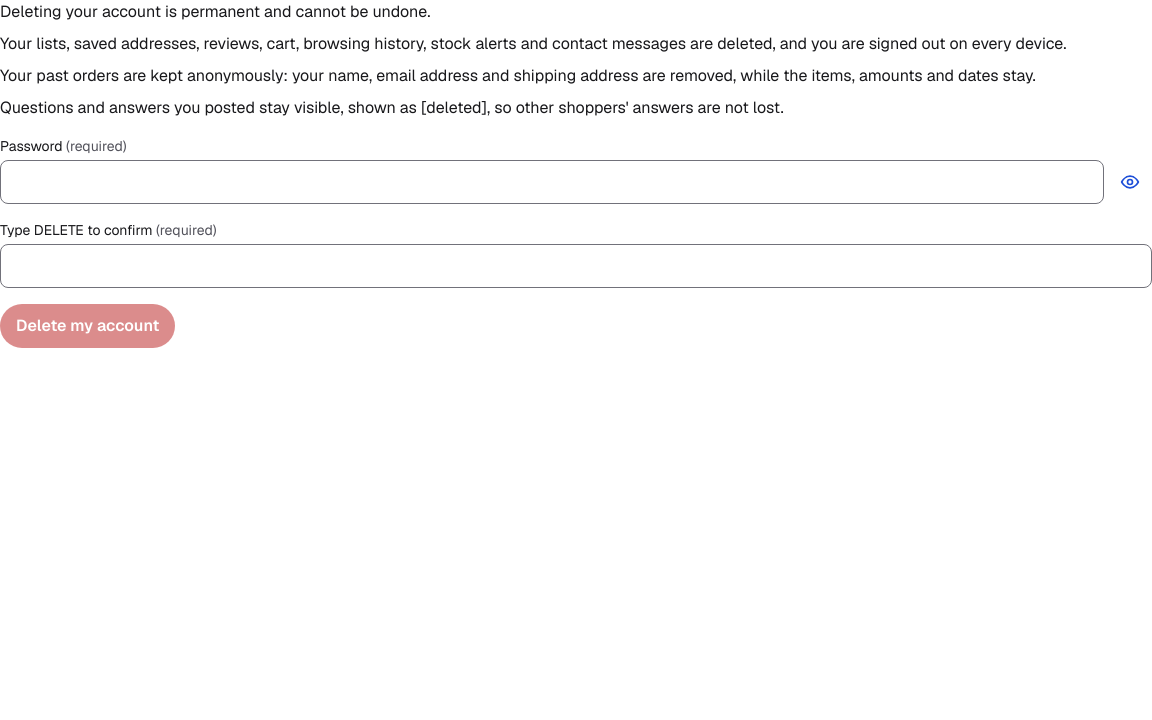
Test case: DeleteAccountForm interactions (hydrated) › RATE_LIMITED and UNAUTHENTICATED (second submit after deletion) texts
Type "pw-123456" into the password field labelled "Password (required)" at (552, 182), box x1=0 y1=160 x2=1104 y2=204
Type "DELETE" into the field labelled "Type DELETE to confirm (required)" at (576, 266), box x1=0 y1=244 x2=1151 y2=288
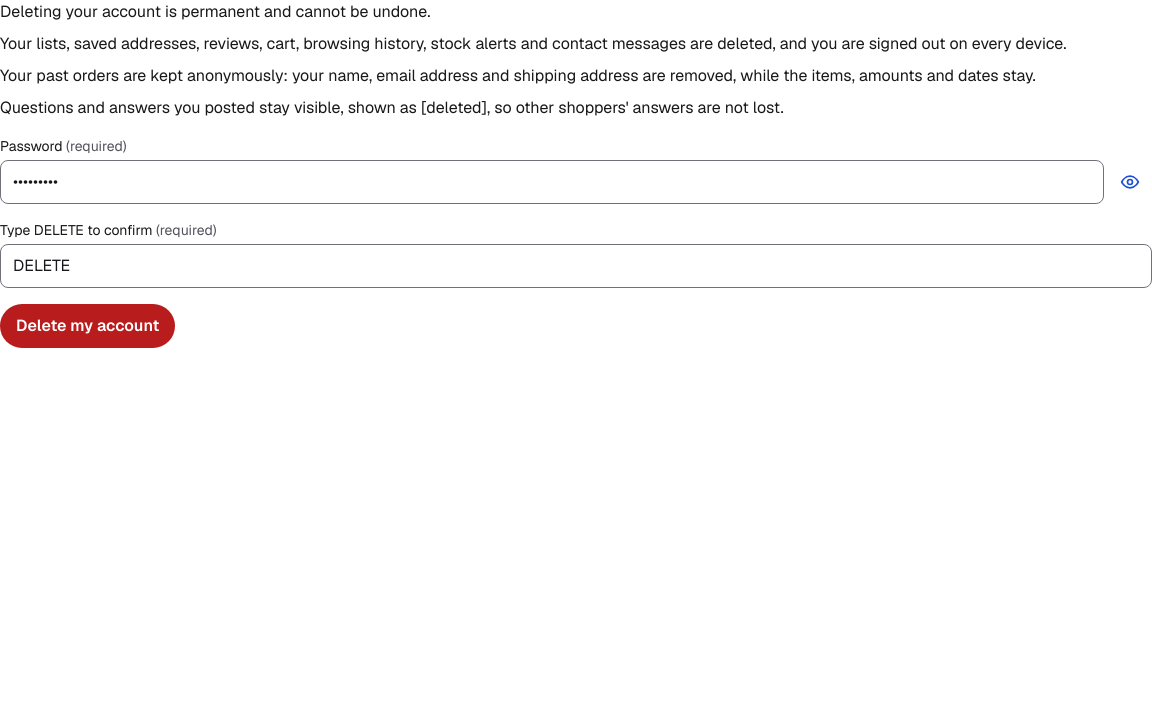
Click the submit button at (88, 326), box x1=0 y1=304 x2=175 y2=348
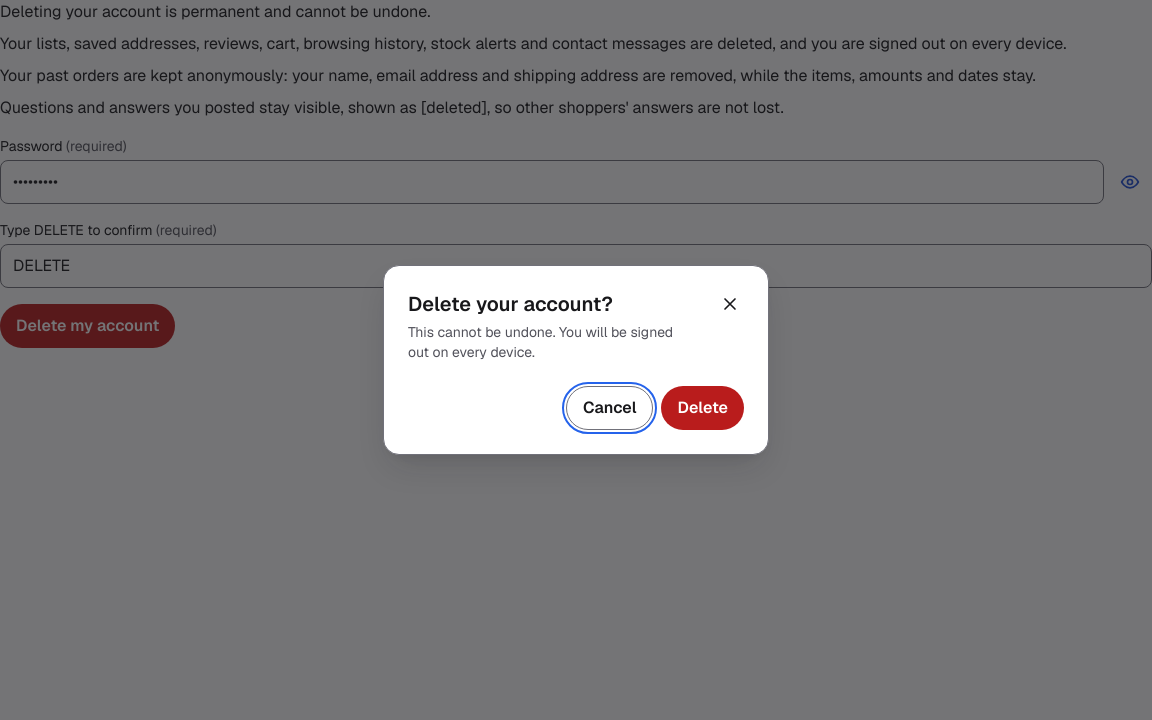
Click the button "Delete" at (703, 408), box x1=662 y1=386 x2=744 y2=430
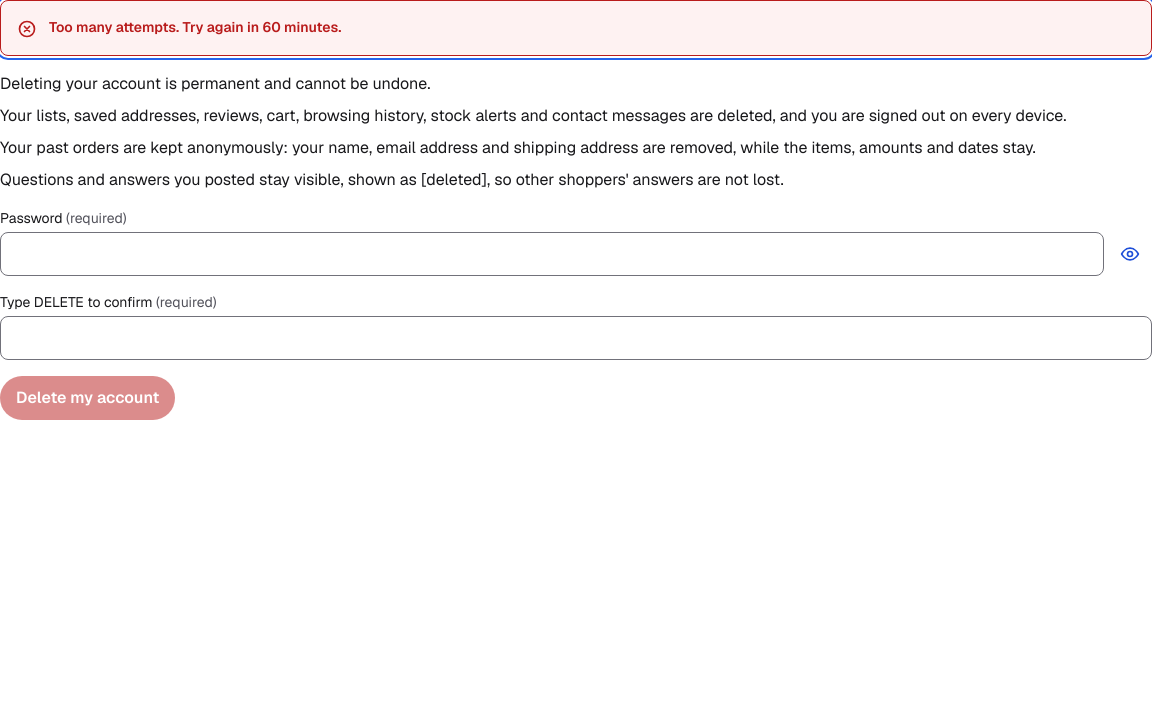
Expected: the message with test id "delete-error-summary" reads "Too many attempts. Try again in 60 minutes.", x1=49 y1=18 x2=341 y2=36
Type "pw-123456" into the password field labelled "Password (required)" at (552, 254), box x1=0 y1=232 x2=1104 y2=276
Type "DELETE" into the field labelled "Type DELETE to confirm (required)" at (576, 338), box x1=0 y1=316 x2=1151 y2=360
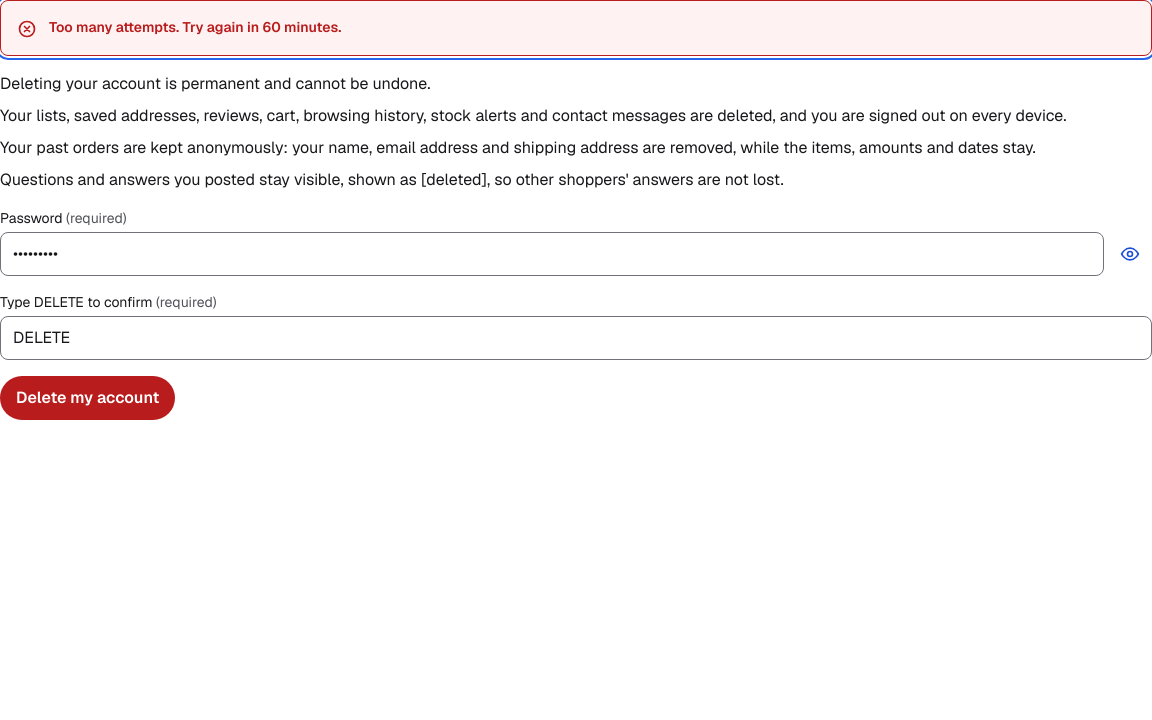
Click the submit button at (88, 398), box x1=0 y1=376 x2=175 y2=420
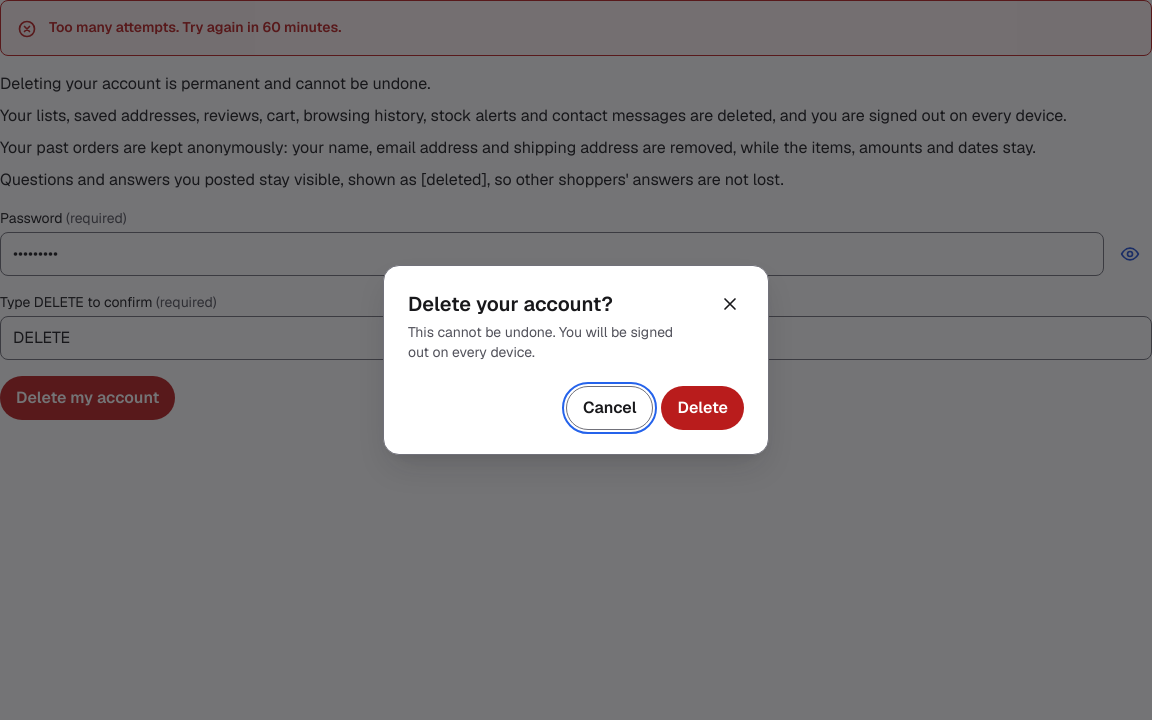
Click the button "Delete" at (703, 408), box x1=662 y1=386 x2=744 y2=430
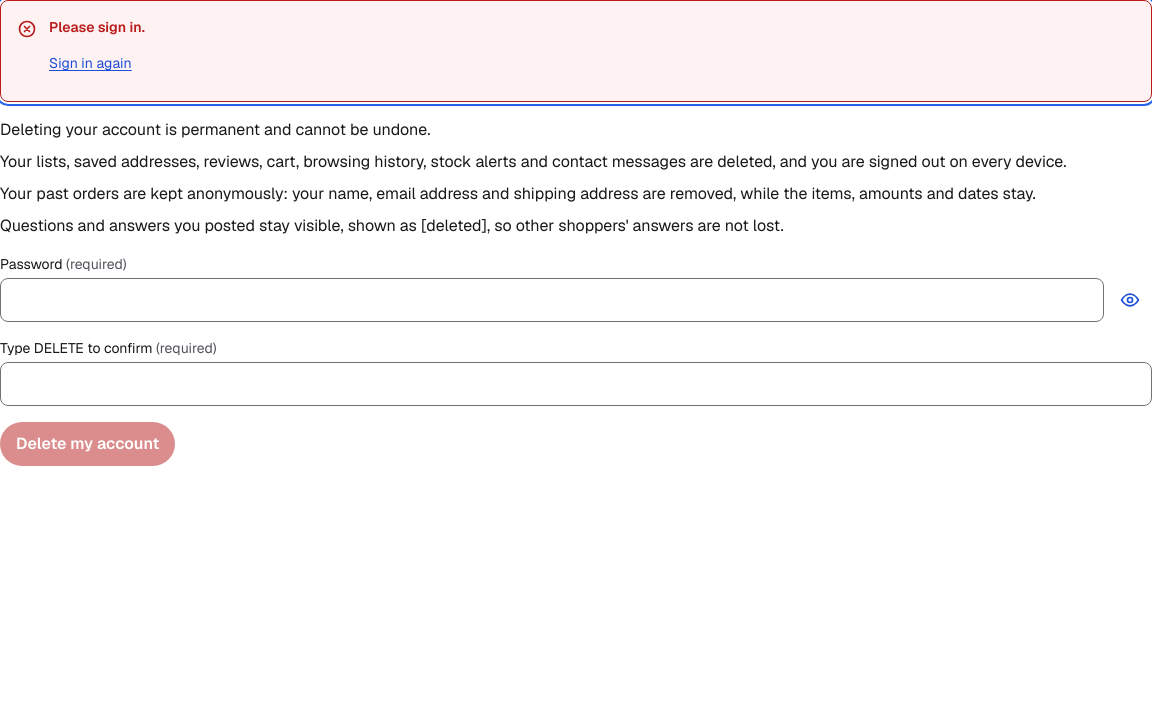
Expected: the message with test id "delete-error-summary" shows "Please sign in.", x1=49 y1=18 x2=145 y2=36
